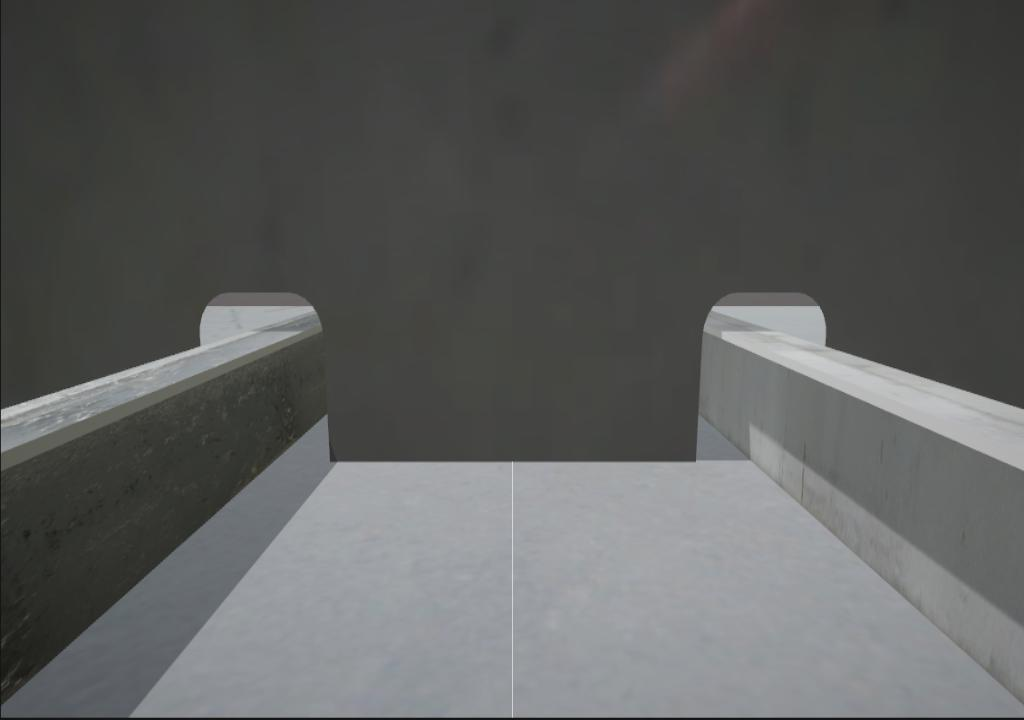fillet_yong_jeop_jang: (322, 441, 707, 476)
